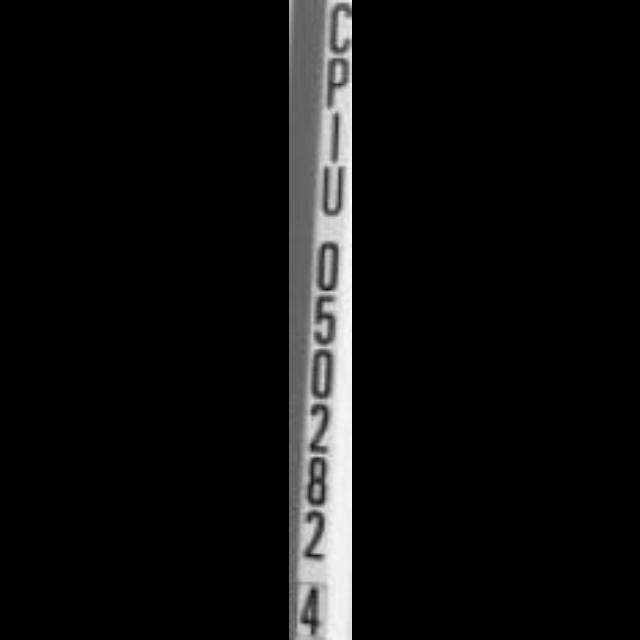0: (308, 230, 344, 296), (307, 344, 339, 404)
2: (298, 506, 329, 570), (306, 400, 336, 460)
4: (295, 580, 325, 640)
5: (304, 290, 340, 342)
8: (302, 456, 334, 506)
c: (310, 0, 352, 56)
i: (314, 106, 352, 162)
p: (316, 55, 352, 109)
u: (314, 158, 352, 220)
